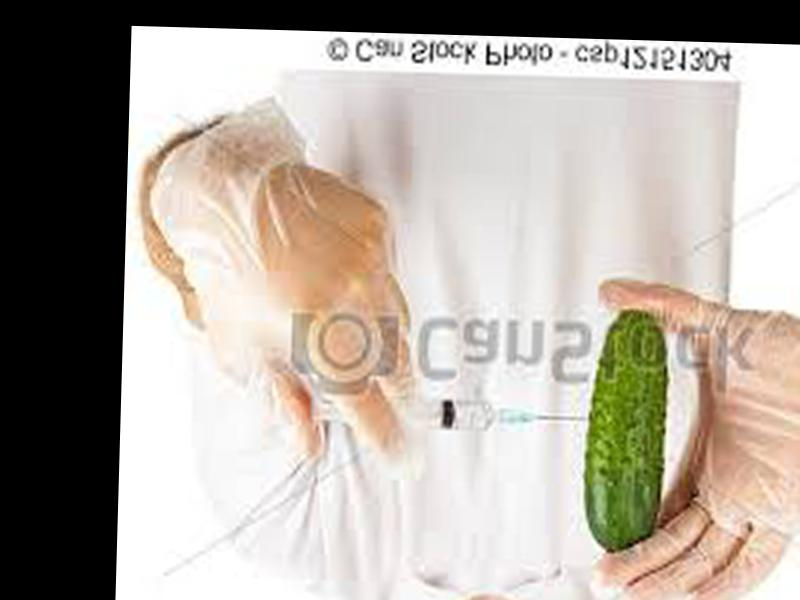Cucumber: (585, 304, 672, 553)
